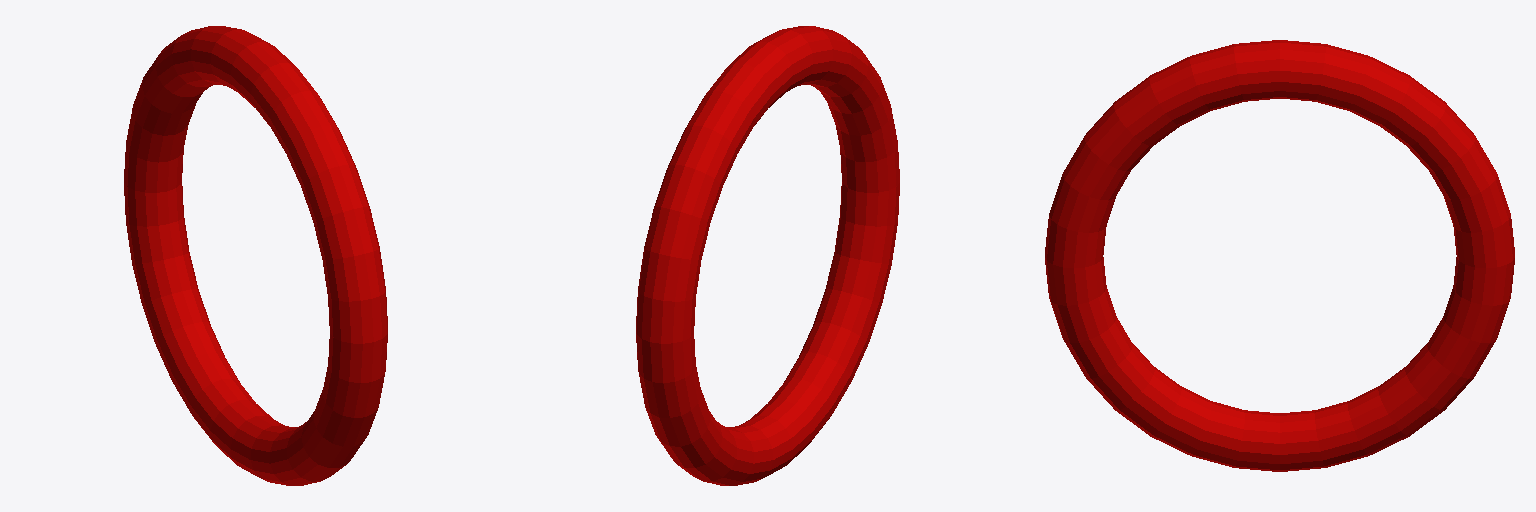
Rendered from gizmo_rotate.sgm.obj.
The picture shows the model from 3 angles: view 1: azimuth 30°, elevation 25°; view 2: azimuth 150°, elevation 25°; view 3: azimuth 270°, elevation 25°; orthographic projection.
Parts seen in each view (by area): view 1: 0; view 2: 0; view 3: 0.
Part boxes in pixels (x1,y1,x2,y2): 0: (124, 26, 387, 485); 0: (636, 26, 899, 485); 0: (1045, 40, 1514, 471).
Size of the model in its own units: 0.05 by 0.4 by 0.4.